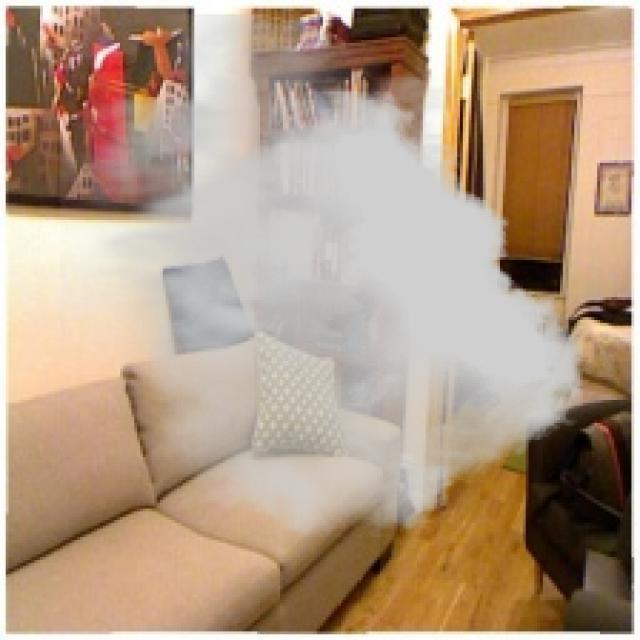Smoke: (60, 14, 583, 537)
